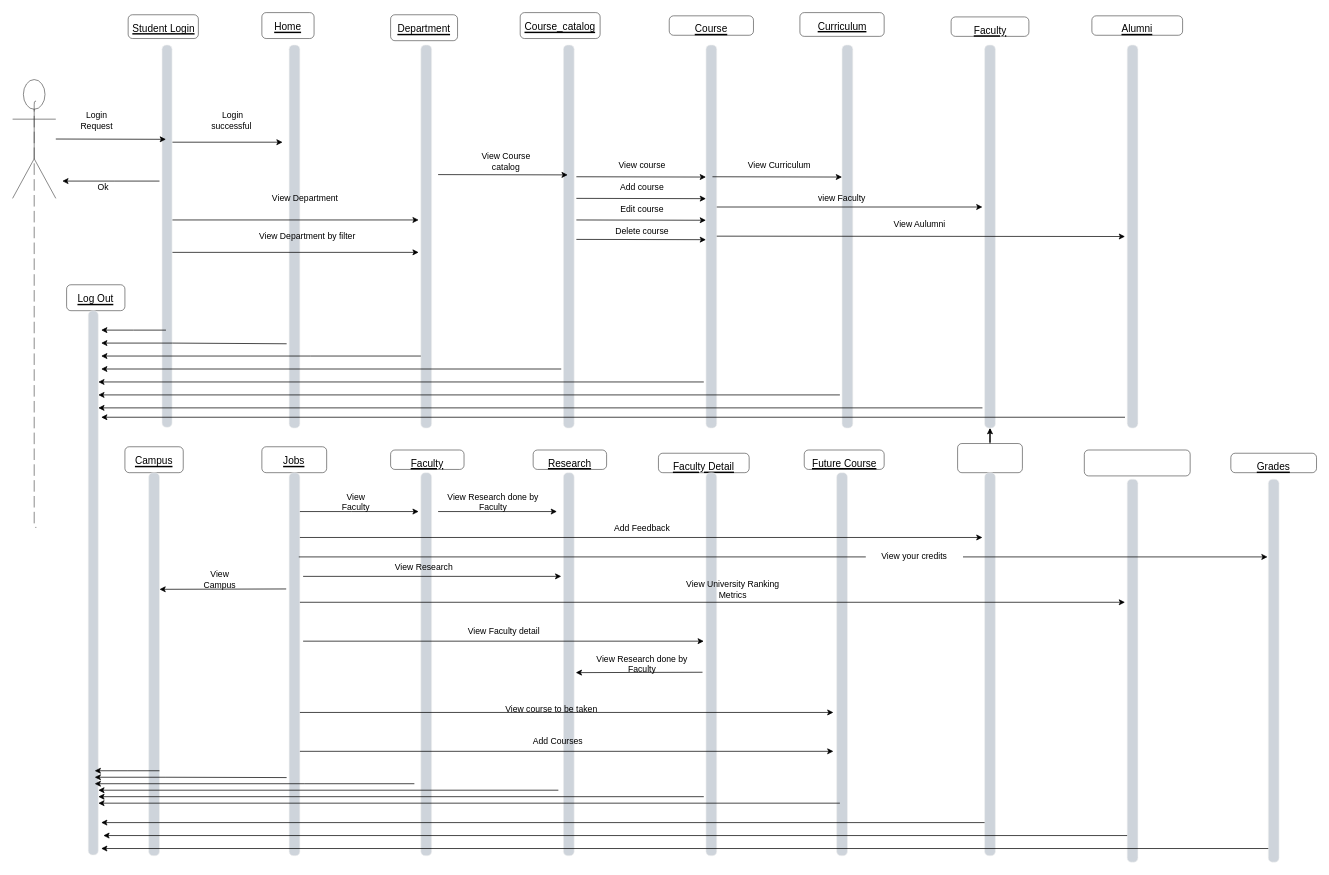
This 1329x875 diagram has some shape labels left out. Here are the shapes that lost their labels. From the top down, the centre of each, then its label:
At point 34,138: "Actor".
At point 989,458: "Feedback".
At point 1137,462: "University Ranking".
